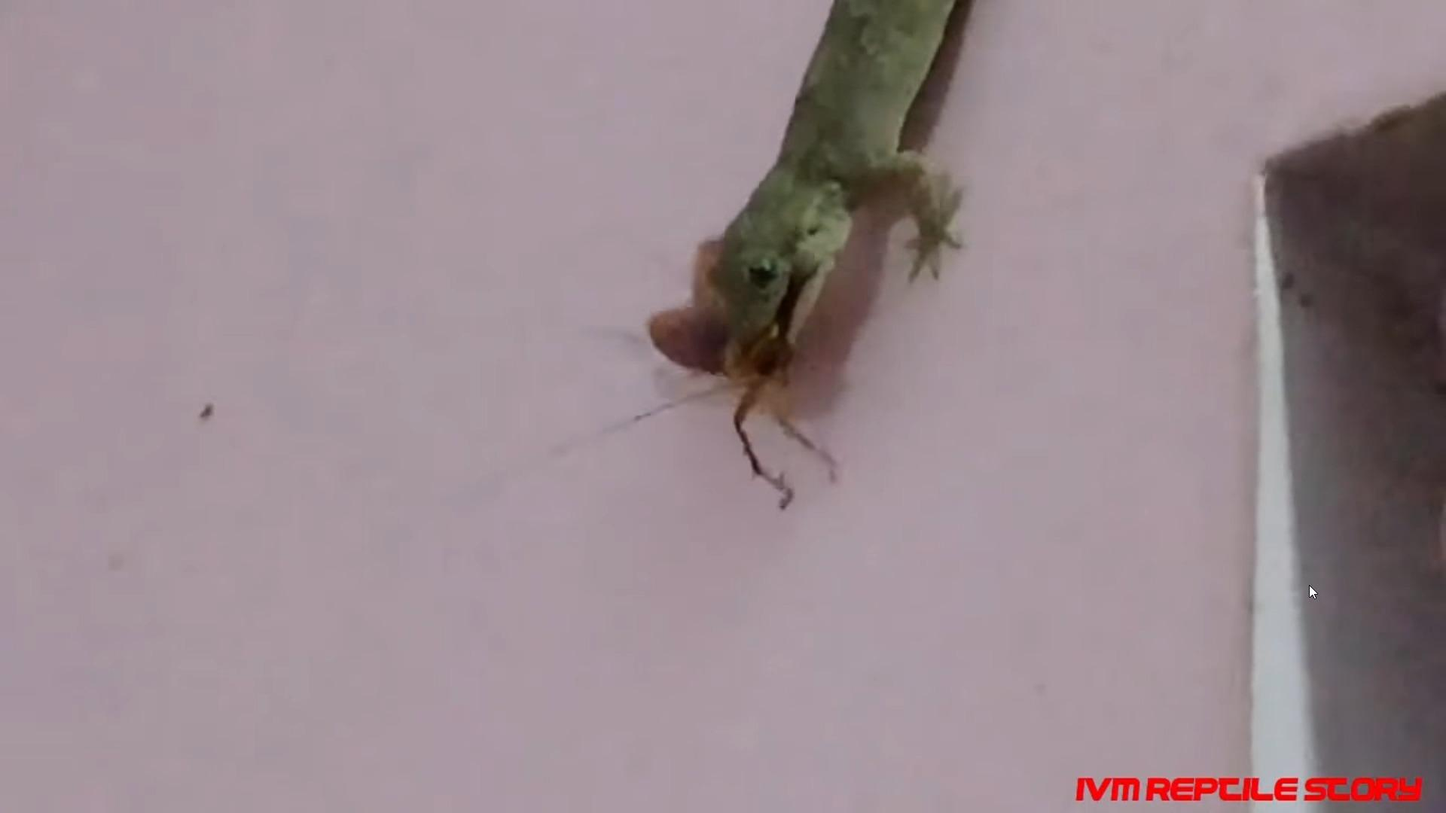cockroach: (638, 282, 812, 417)
lizard: (696, 11, 974, 342)
